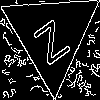Z: (26, 10, 72, 66)
